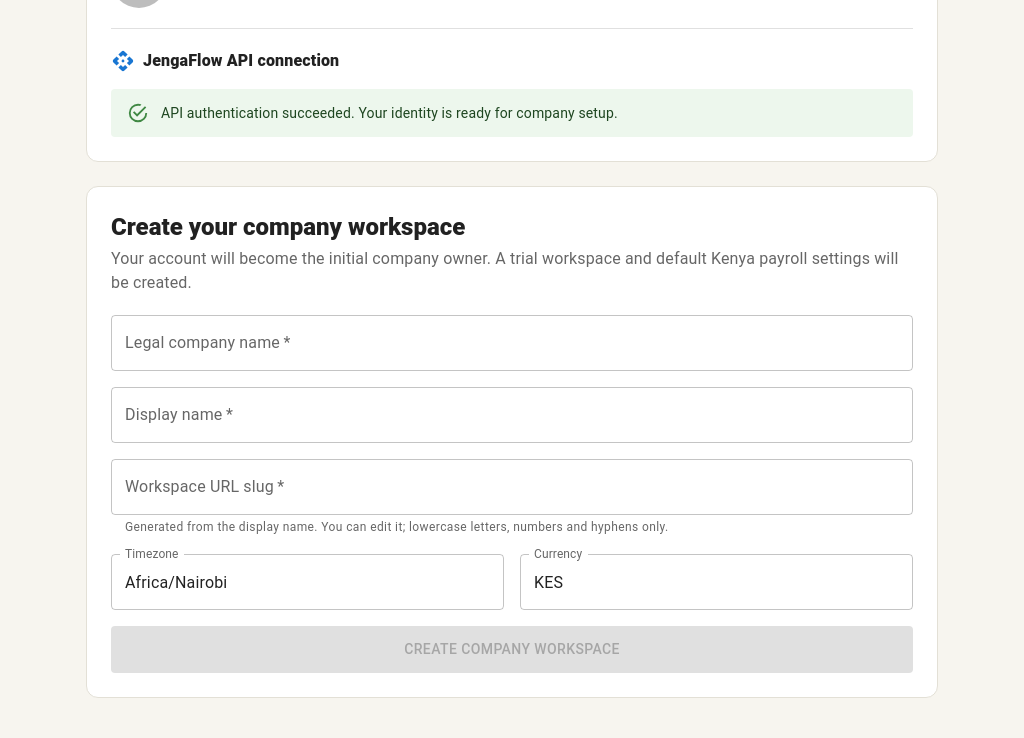
AuthenticatedApp › generates a workspace slug from the display name and preserves a manual edit
Later steps or results of the test are not shown.
(page scrolled)
Expected: the text "Your identity is ready for company setup" is shown, [358, 105, 618, 121]
In the field labelled "Display name *": [512, 415] box [111, 387, 913, 443], type "Test Company"
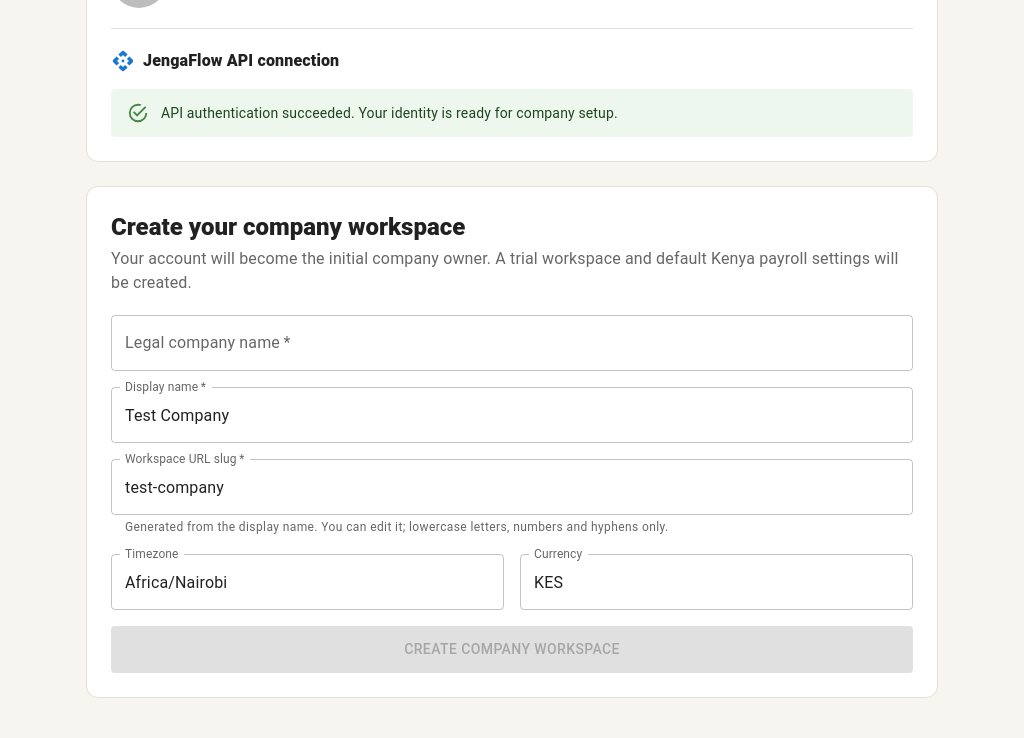
Now the field labelled "Workspace URL slug *" holds "test-company", box [111, 459, 913, 515]
